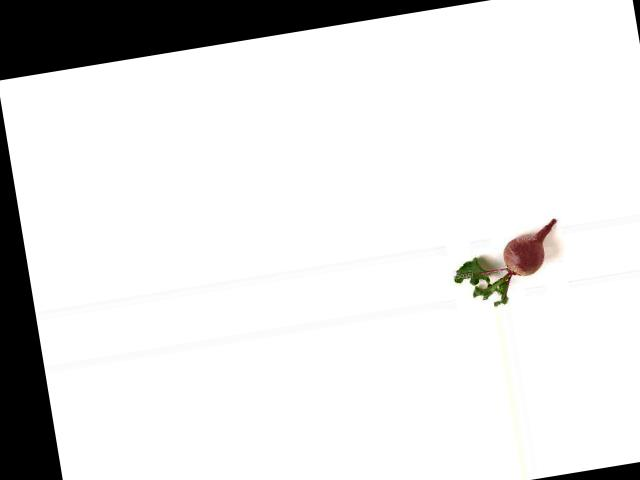beet: (446, 218, 567, 312)
